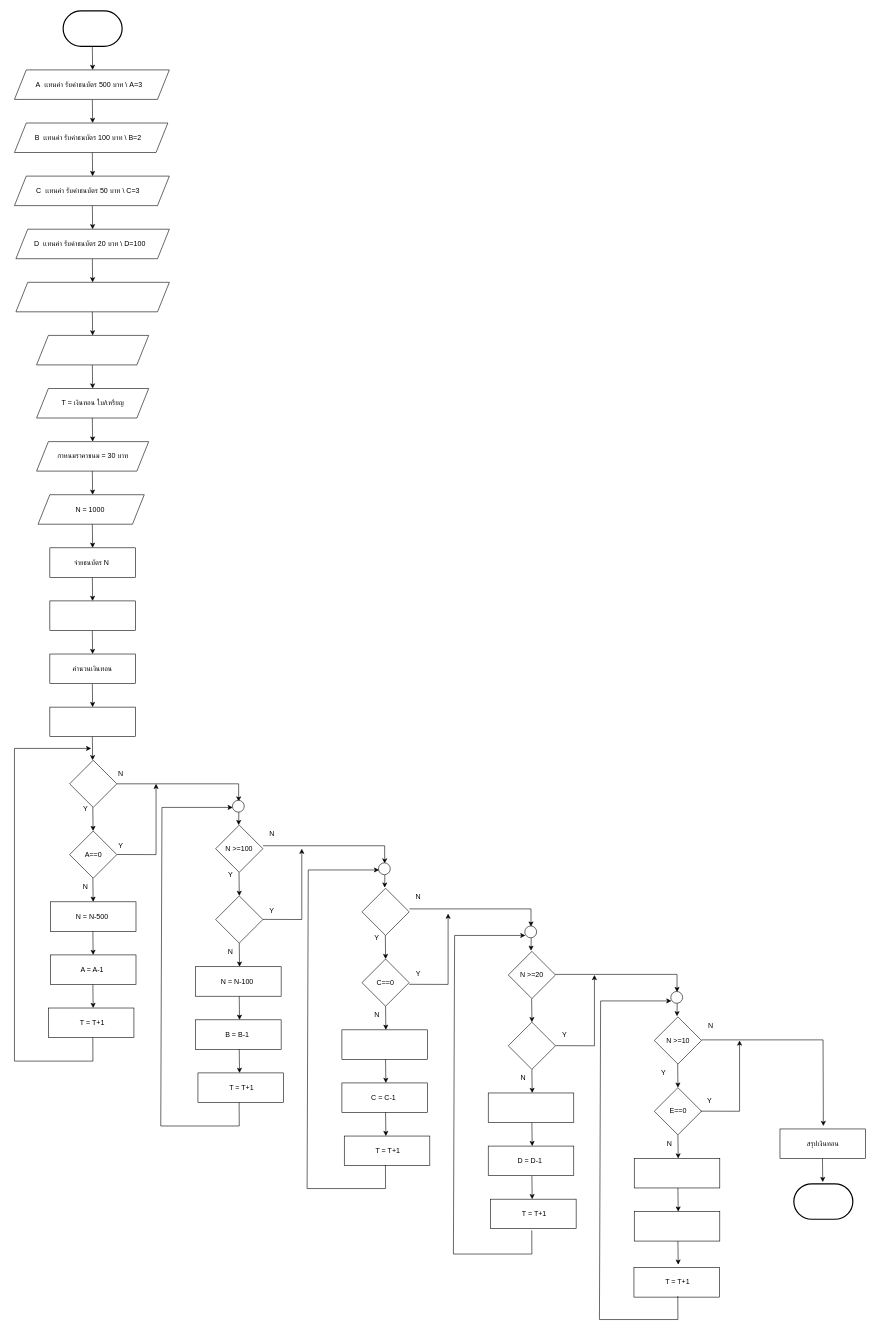
Some shapes in this 876 by 1335 pixel diagram are drawn without their labels. Each missing label, with the box of its shape:
B==0: (215, 895, 263, 943)
D==0: (508, 1022, 555, 1069)
E = E-1: (634, 1211, 720, 1241)
E เเทนค่า รับค่าธนบัตร 10 บาท \ E=200: (15, 282, 169, 312)
END: (793, 1183, 853, 1220)
N = N-10: (634, 1158, 720, 1188)
N = N-20: (488, 1092, 574, 1122)
N = N-30: (49, 707, 135, 737)
N = N-50: (341, 1029, 427, 1059)
N >= 500: (69, 760, 117, 807)
N >=50: (361, 888, 409, 935)
start: (62, 10, 122, 47)
ตรวจสอบราคาสินค้า: (49, 600, 135, 630)
รับค่ารายการขนม: (36, 335, 149, 365)
